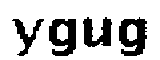g: (114, 12, 150, 60), (48, 17, 78, 60)
u: (80, 12, 114, 50)
y: (12, 15, 44, 60)
